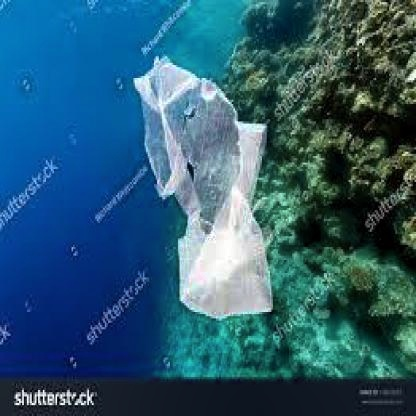pbag: (132, 54, 276, 321)
